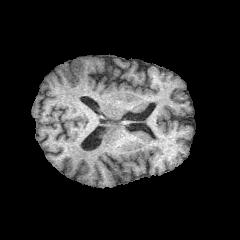glioma: (62, 58, 85, 92)
